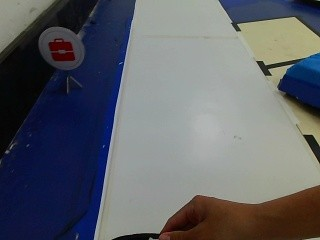company: (35, 23, 84, 72)
